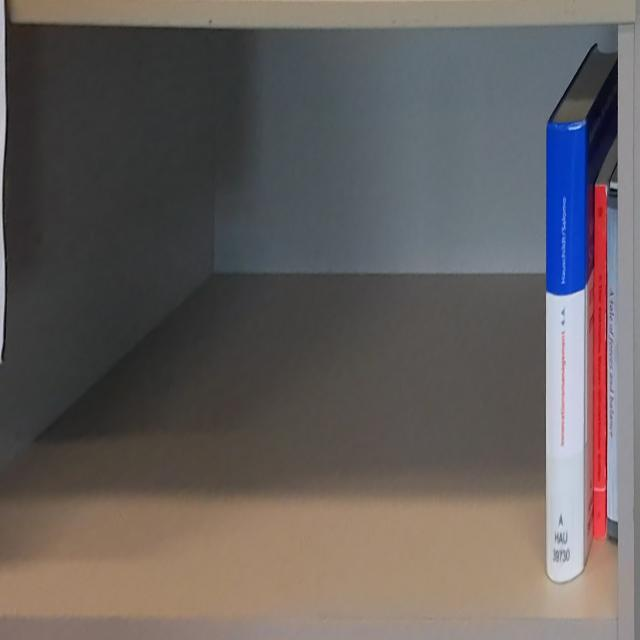Book Spine: (547, 122, 584, 583), (594, 184, 606, 540), (607, 195, 618, 540)
